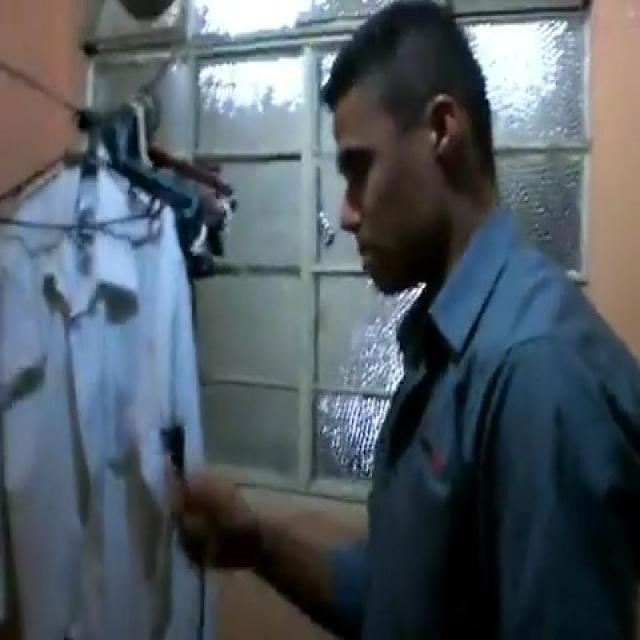Shirt: (320, 199, 640, 640), (0, 134, 220, 640)
